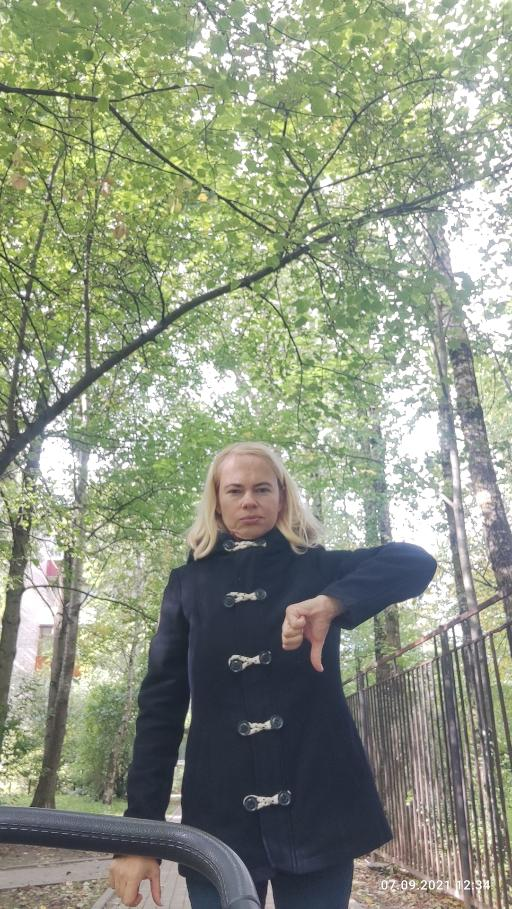dislike: (279, 596, 333, 673)
no_gesture: (105, 850, 167, 907)
